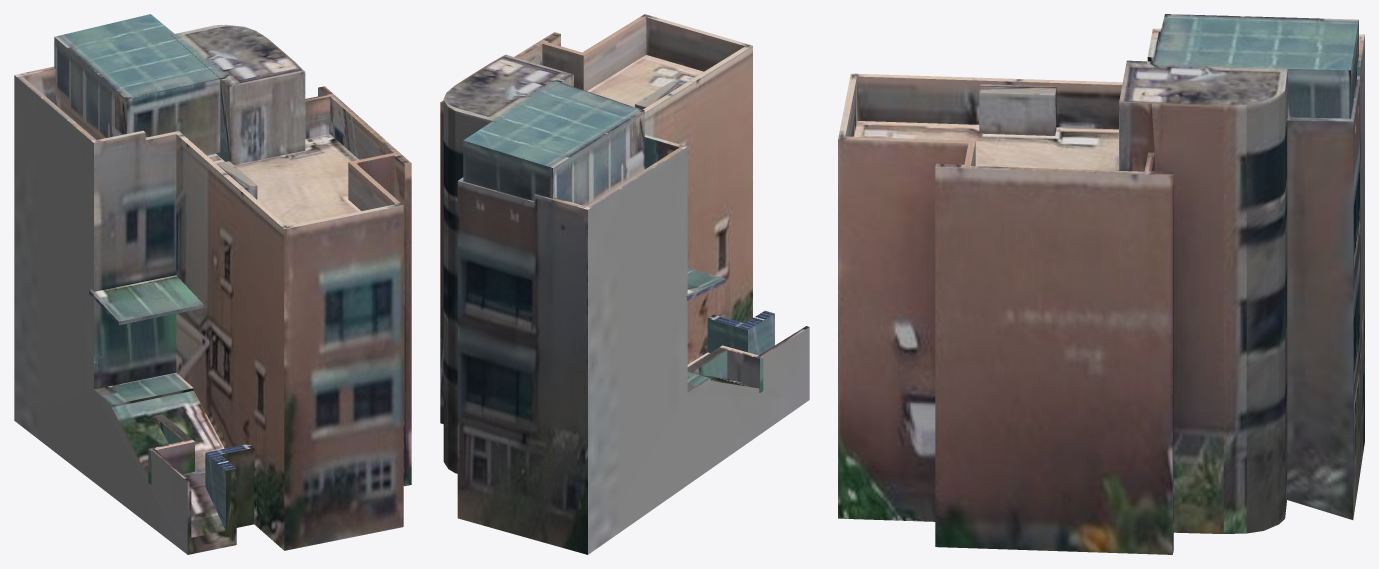
3 renders of one model, left to right at view 1: azimuth 30°, elevation 25°; view 2: azimuth 150°, elevation 25°; view 3: azimuth 270°, elevation 25°, orthographic. The views are drawn at different scales.
Visible parts, largest first — view 1: B281174040901063A0; view 2: B281174040901063A0; view 3: B281174040901063A0.
Boxes of the visible parts, left/top/right/bottom form: B281174040901063A0: left=14, top=14, right=411, bottom=554; B281174040901063A0: left=440, top=14, right=809, bottom=554; B281174040901063A0: left=838, top=14, right=1364, bottom=554.
Size of the model in its own units: 8.82 by 12.62 by 13.45.
1 material, 1 textured.
